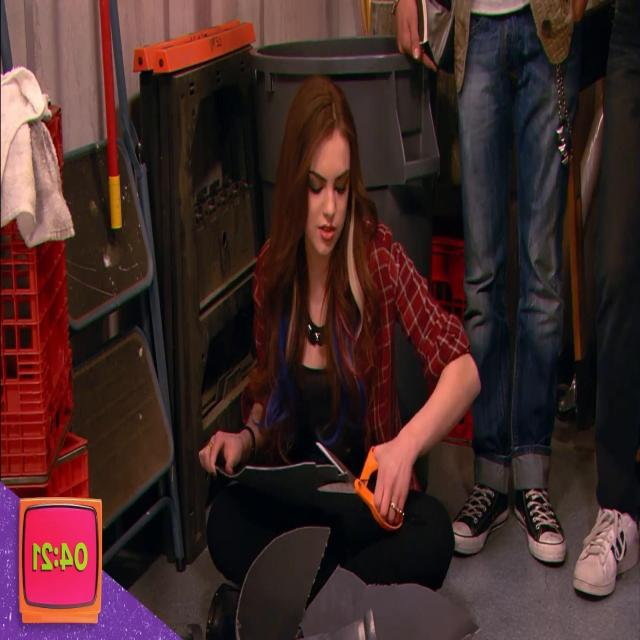scissor: (316, 440, 403, 530)
